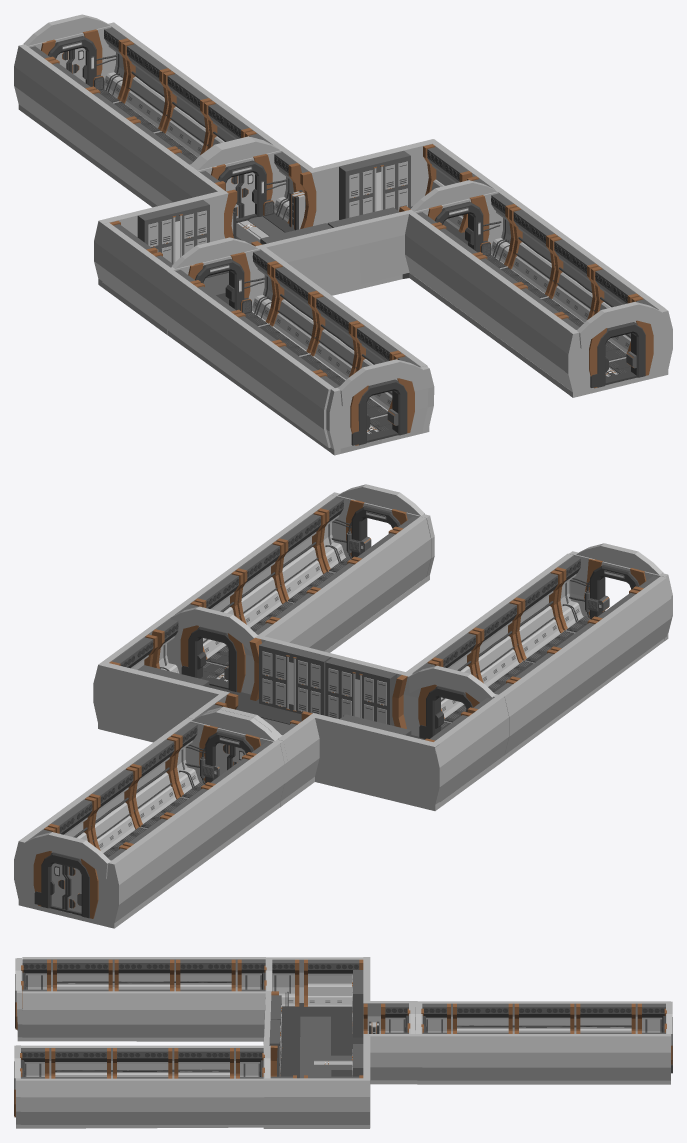
The model's file is CouloirY.fbx.
3 renders of one model, top to bottom at view 1: azimuth 30°, elevation 25°; view 2: azimuth 150°, elevation 25°; view 3: azimuth 270°, elevation 25°, orthographic. The views are drawn at different scales.
Parts seen in each view (by area): view 1: Cube.063, Cube.059, Cloison.020, Cloison.019, Cloison.018, SurMur.004, SurMur.003, SurMur.000, Cube.054, Cube.062, Cube.064; view 2: Cube.063, Cube.059, Cloison.020, Cube.054, Cloison.018, Cloison.019, SurMur.004, SurMur.003, SurMur.000, Cube.066, Cube.065; view 3: SurMur.000, SurMur.004, SurMur.003, Cube.063, Cloison.020, Cube.059, Cloison.019, Cloison.018, Cube.054, Cube.064, Cube.066, Cube.062 (+1 smaller).
Part boxes in pixels (x1,y1,x2,y2): Cube.063: (94, 139, 672, 455); Cube.059: (98, 139, 467, 334); Cloison.020: (109, 144, 487, 447); Cloison.019: (405, 212, 579, 389); Cloison.018: (17, 46, 192, 205); SurMur.004: (252, 247, 427, 410); SurMur.003: (491, 190, 665, 353); SurMur.000: (104, 25, 278, 156); Cube.054: (14, 14, 281, 207); Cube.062: (339, 151, 410, 219); Cube.064: (137, 200, 209, 264); Cube.063: (93, 484, 672, 804); Cube.059: (99, 661, 504, 810); Cloison.020: (109, 576, 671, 754); Cube.054: (14, 709, 287, 928); Cloison.018: (108, 741, 284, 920); Cloison.019: (255, 516, 430, 651); SurMur.004: (406, 553, 582, 718); SurMur.003: (169, 494, 345, 659); SurMur.000: (22, 720, 199, 852); Cube.066: (259, 640, 330, 715); Cube.065: (325, 657, 397, 725); SurMur.000: (422, 1031, 665, 1080); SurMur.004: (22, 988, 265, 1037); SurMur.003: (20, 1075, 264, 1124); Cube.063: (14, 957, 369, 1128); Cloison.020: (22, 957, 363, 1078); Cube.059: (280, 957, 417, 1127); Cloison.019: (21, 1045, 263, 1078); Cloison.018: (422, 1001, 665, 1033); Cube.054: (416, 1001, 672, 1084); Cube.064: (352, 970, 363, 1037); Cube.066: (269, 1019, 281, 1076); Cube.062: (352, 1044, 363, 1076).
Bounding box in the file's own units: 8792 × 1916 × 19279.
